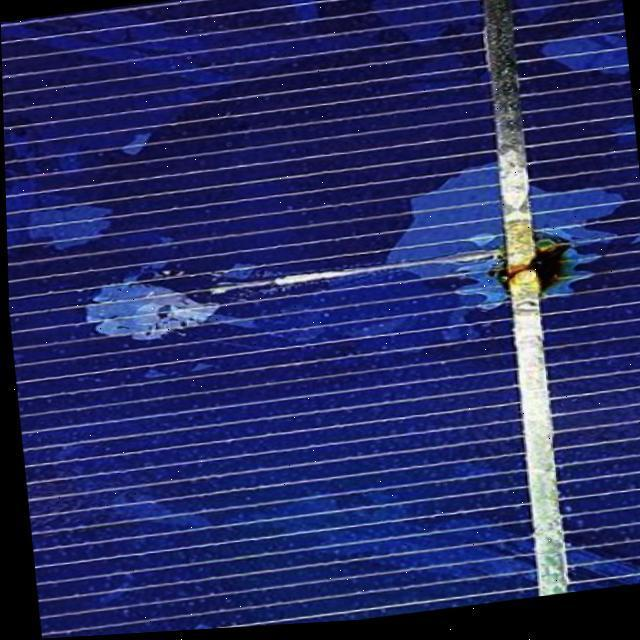Anomaly Solar Panel: (1, 0, 640, 639)
Structural Damage: (77, 237, 286, 365), (453, 200, 604, 346)
